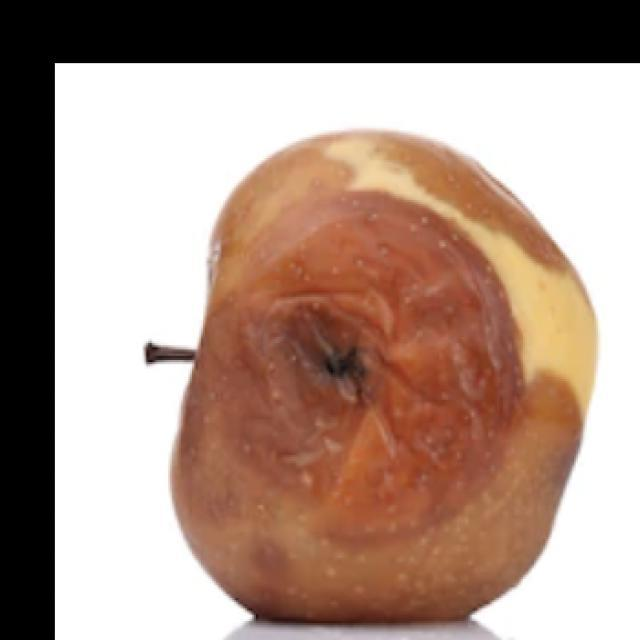Rotten: (201, 111, 618, 640)
